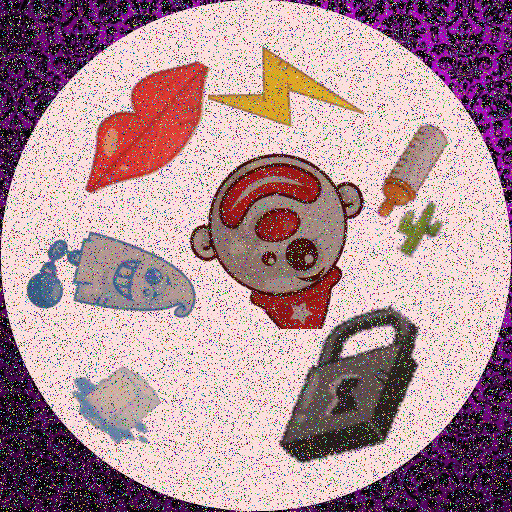bottle_icon: (355, 117, 464, 226)
cactus_icon: (385, 197, 449, 261)
clown_icon: (186, 151, 364, 329)
cube_icon: (69, 347, 174, 452)
ghost_icon: (26, 194, 203, 371)
lightning_icon: (208, 20, 364, 176)
lips_icon: (72, 50, 239, 217)
lock_icon: (259, 297, 439, 477)
